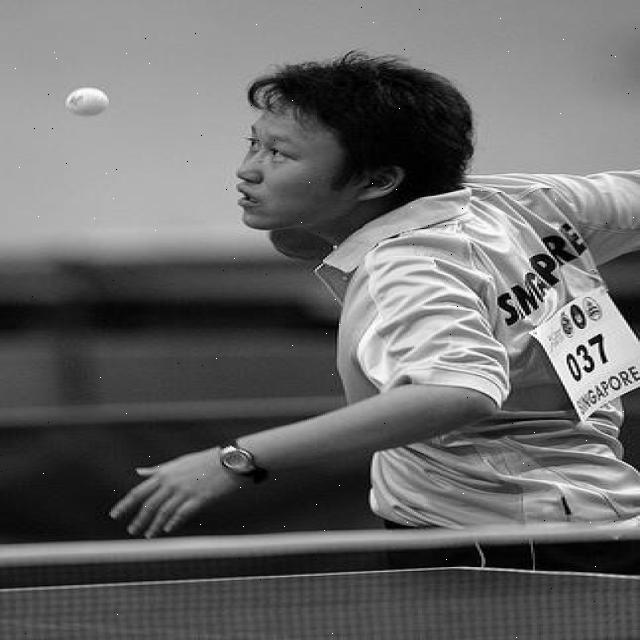ping-pong-ball: (64, 86, 113, 118)
